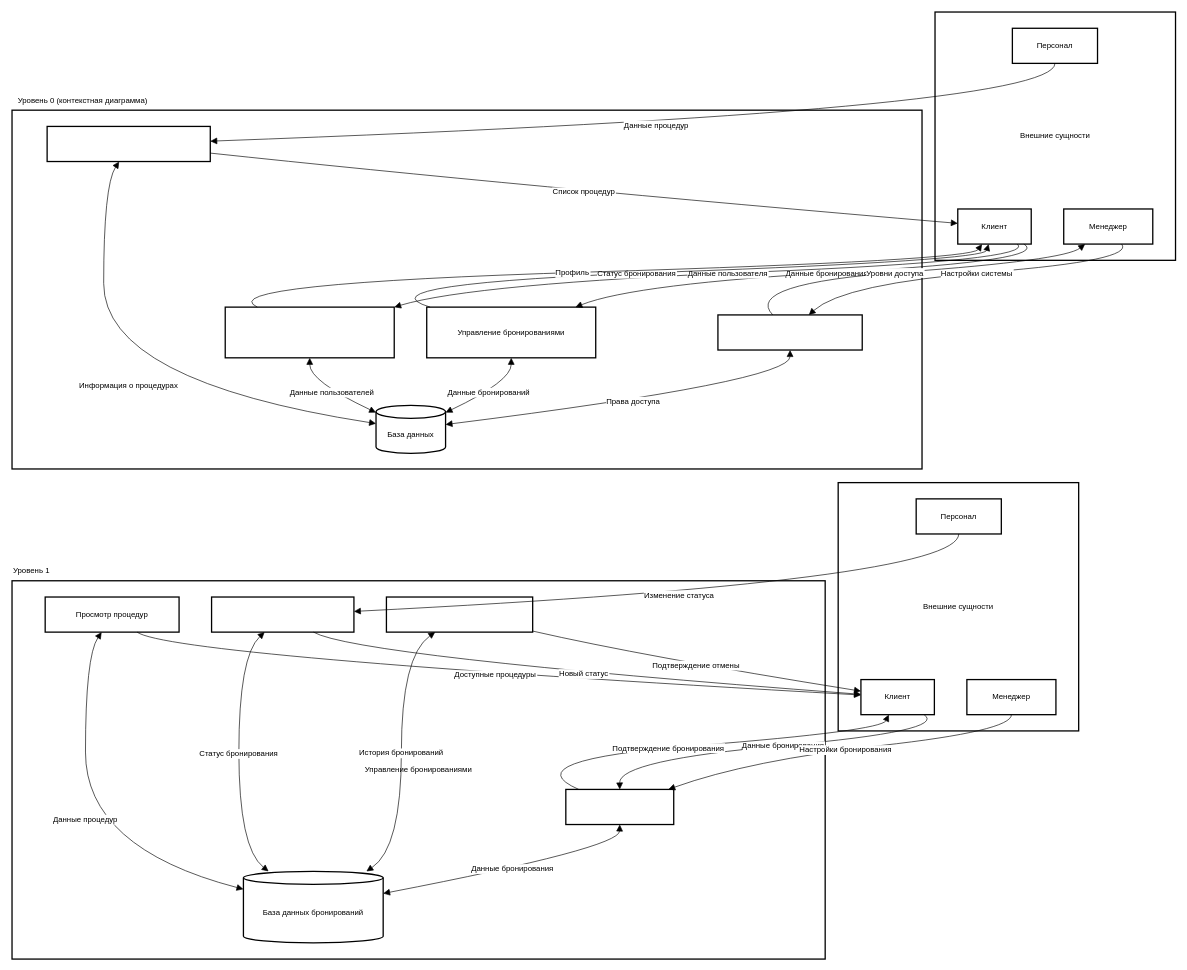
Image size: 1187x970. Some labels were removed from this diagram. Here are the shapes that lost their labels. From the top down, the box of each, then its label:
(46, 125, 211, 162): Управление процедурами
(11, 109, 922, 469): Система управления спа-салоном
(224, 306, 395, 358): Управление пользователями
(717, 314, 863, 350): Управление доступом
(211, 596, 354, 632): Управление статусом
(385, 596, 533, 632): Отмена бронирования
(565, 788, 674, 825): Бронирование
